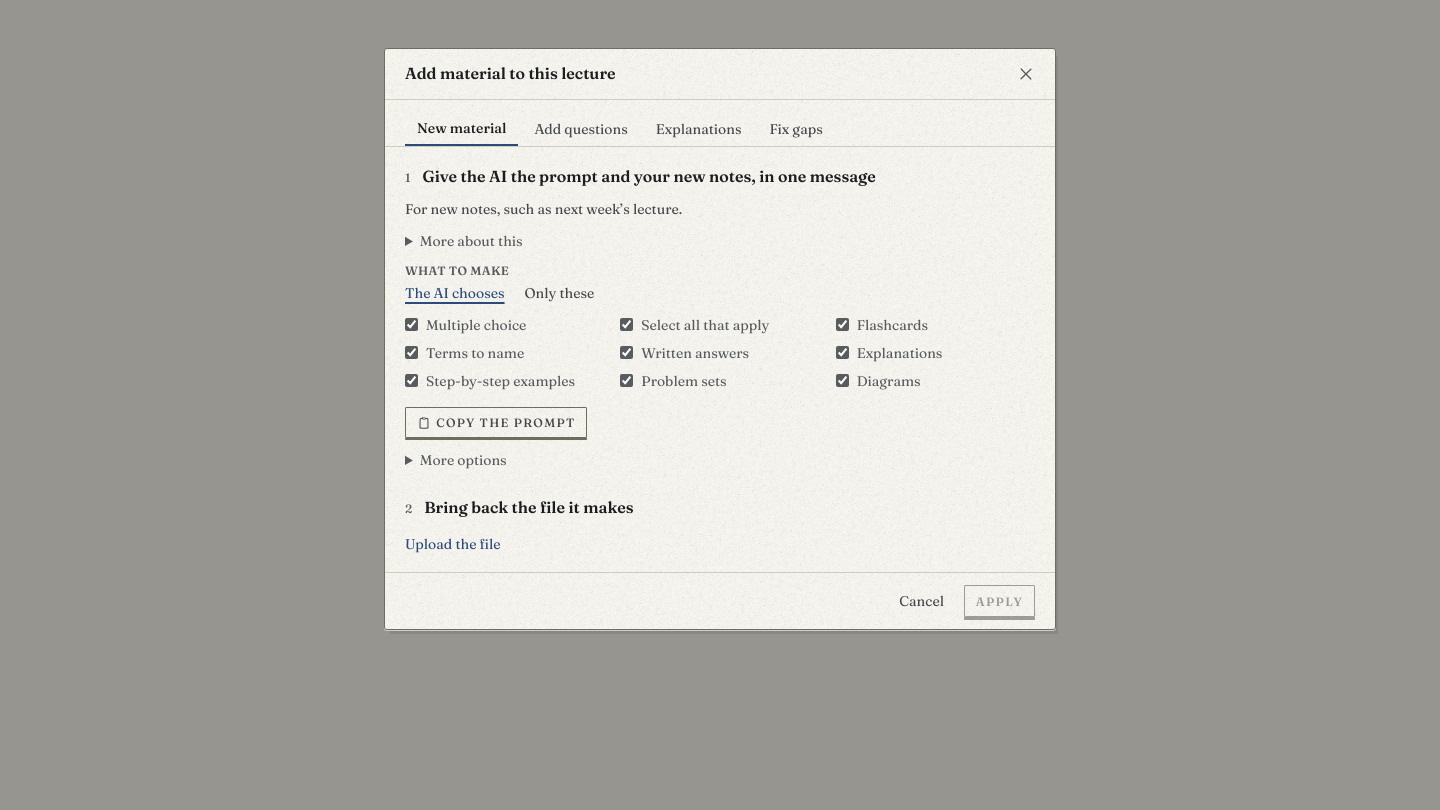
Scenario: AddToCourseDialog, what to make › offers select all that apply as its own tick, ticked by default, for new material and for more practice
Later steps or results of the test are not shown.
Click the checkbox labelled "Select all that apply" at (627, 325), box 620,318 -> 633,332
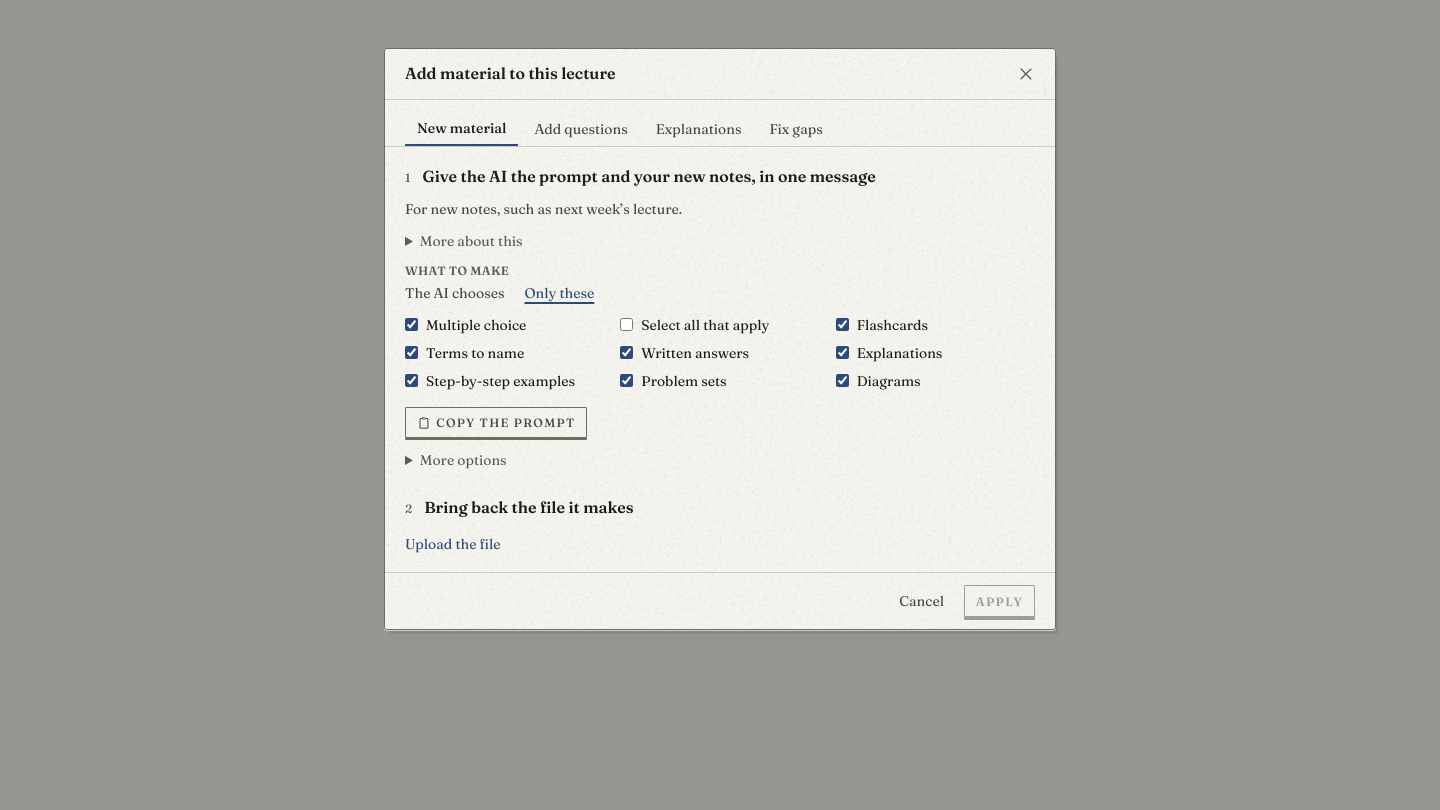
Expected: the checkbox labelled "Select all that apply" is not checked, 620,318 -> 633,332
